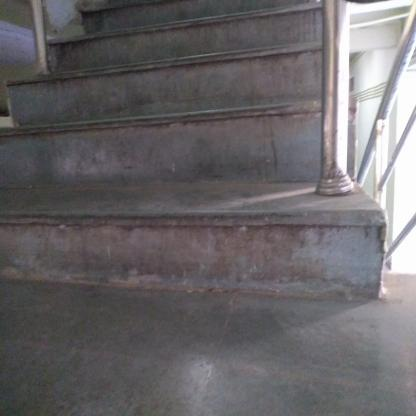stairs: (53, 33, 318, 310)
